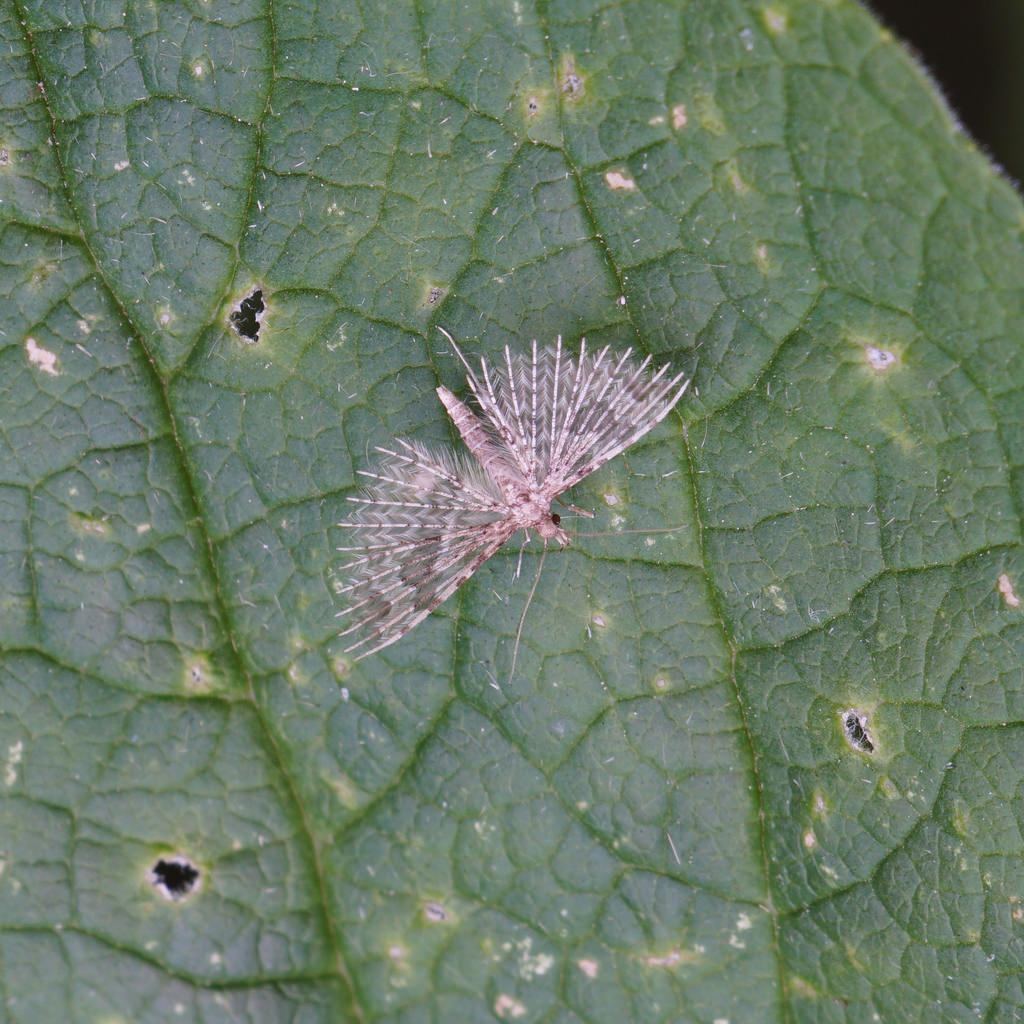Alucitidae: (325, 306, 713, 692)
moth: (327, 308, 715, 694)
